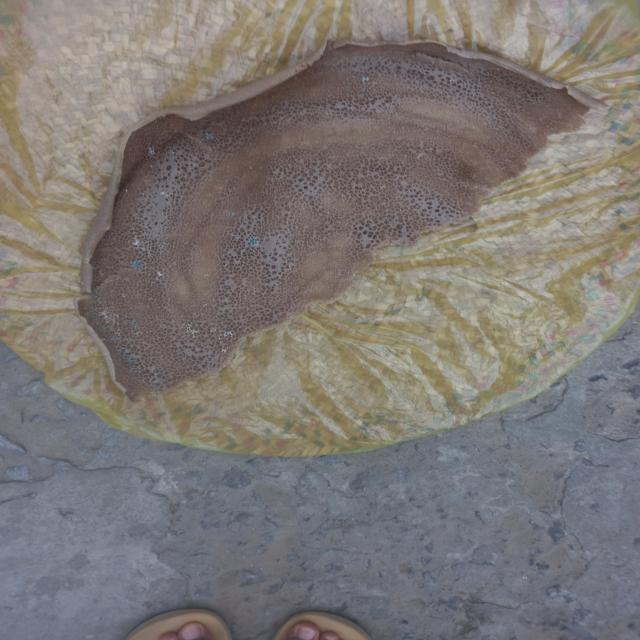injera_mold: (99, 310, 121, 325), (184, 324, 199, 338), (218, 330, 234, 340), (130, 260, 146, 269), (248, 237, 261, 246), (204, 133, 217, 140), (146, 147, 156, 156), (132, 237, 141, 246), (118, 348, 128, 355), (231, 233, 241, 239), (110, 335, 120, 340), (129, 320, 137, 326), (115, 329, 122, 335), (160, 242, 167, 248), (92, 314, 98, 320), (221, 348, 228, 353), (155, 373, 163, 377), (99, 326, 107, 330), (120, 293, 126, 298), (129, 358, 136, 362), (95, 292, 102, 296), (363, 77, 370, 81), (157, 272, 163, 276), (228, 212, 234, 216), (203, 274, 210, 277), (172, 262, 177, 266), (130, 392, 135, 395), (160, 192, 166, 194), (203, 304, 208, 306), (155, 278, 159, 280), (151, 392, 154, 394), (166, 194, 168, 197)
